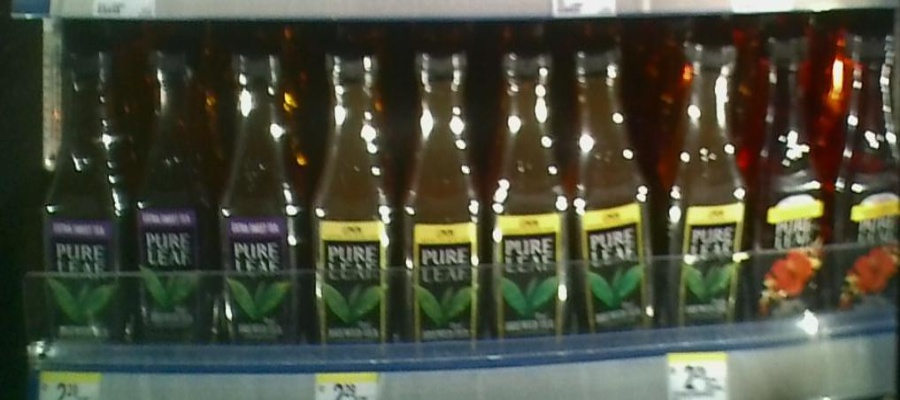bottle: (212, 44, 309, 357), (313, 39, 399, 361), (401, 47, 488, 361), (574, 44, 661, 353), (42, 45, 130, 350), (665, 28, 748, 339), (491, 48, 570, 361), (751, 26, 831, 328), (134, 41, 210, 357), (839, 23, 900, 336)
